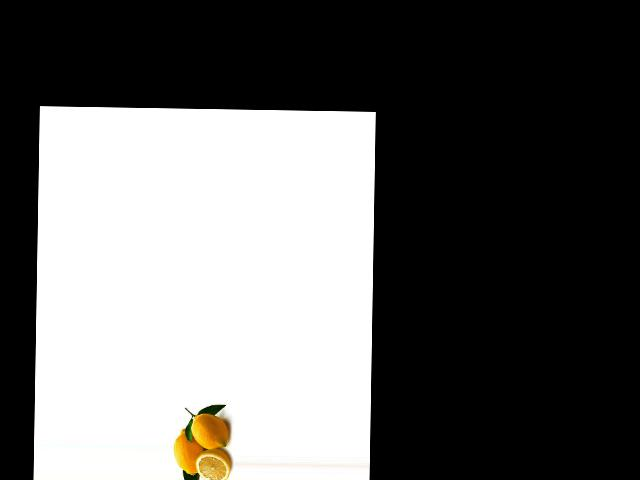lemon: (171, 426, 207, 473)
